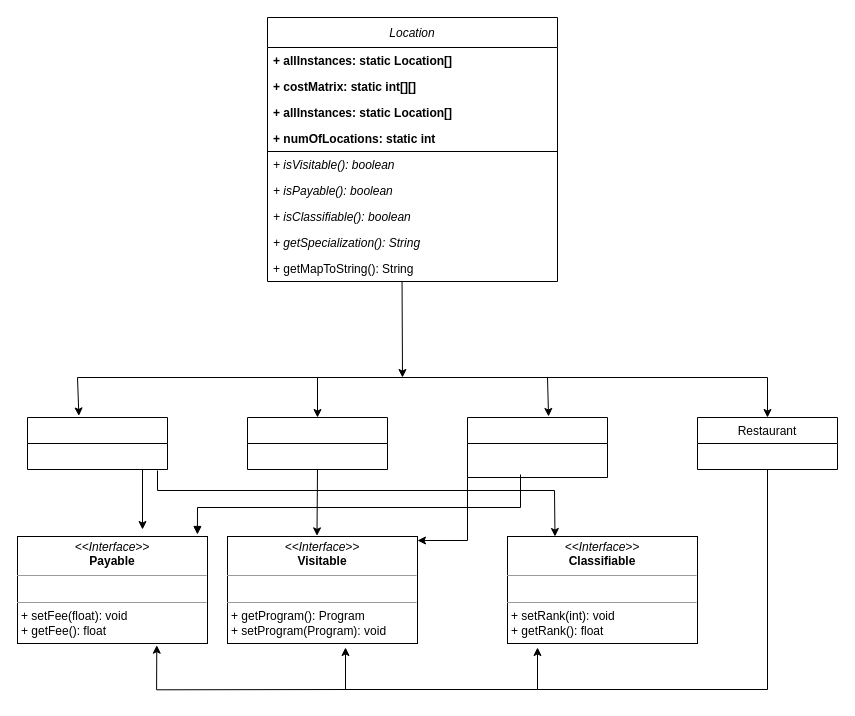
Image size: 855x716. Some labels were removed from this diagram. Here are the shapes that lost their labels. From the top down, the centre of each, then its label:
At (97,443): "Hotel".
At (317,443): "Church".
At (537,447): "Museum".
